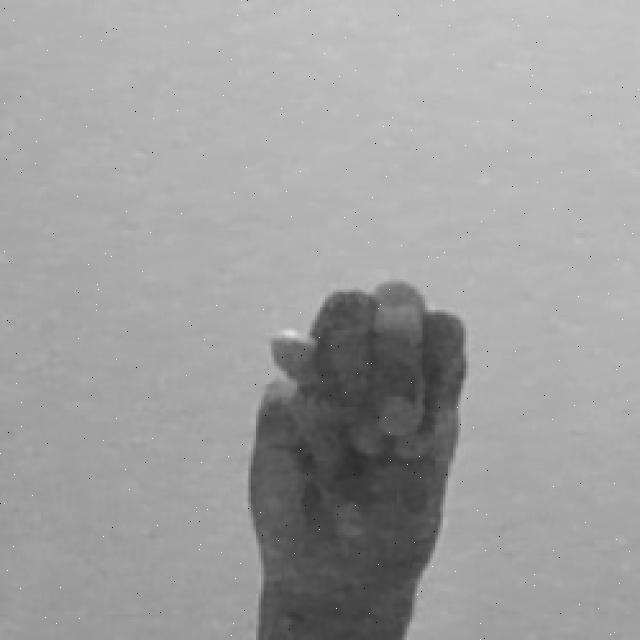M: (239, 274, 473, 640)
